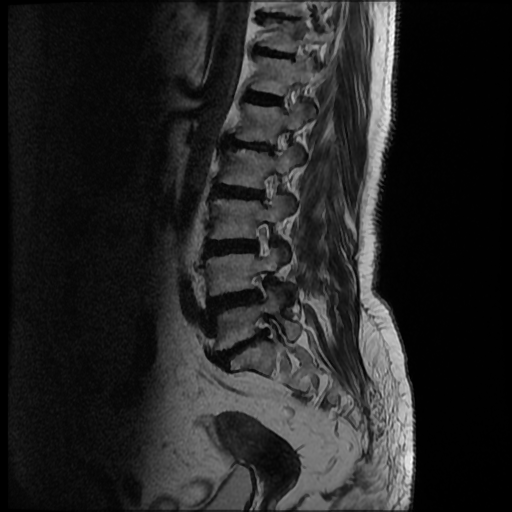LFS0: (245, 210, 279, 261), (251, 165, 288, 210), (263, 118, 295, 164)
LFS2: (242, 261, 281, 310)
